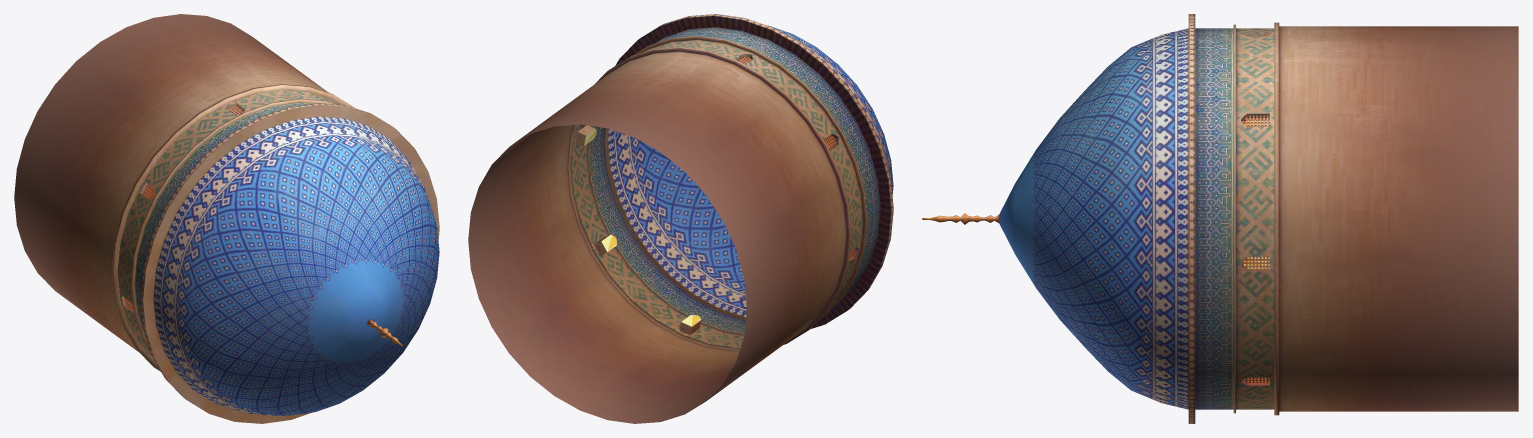
Rendered from dome.glb.
3 renders of one model, left to right at view 1: azimuth 30°, elevation 25°; view 2: azimuth 150°, elevation 25°; view 3: azimuth 270°, elevation 25°, orthographic. The views are drawn at different scales.
Visible parts, largest first — view 1: Dome_DomeMaterial_0; view 2: Dome_DomeMaterial_0; view 3: Dome_DomeMaterial_0.
Part boxes in pixels (box(x1,y1,x2,y2)): Dome_DomeMaterial_0: box(14, 14, 439, 423); Dome_DomeMaterial_0: box(468, 14, 893, 423); Dome_DomeMaterial_0: box(922, 14, 1518, 423).
Size of the model in its own units: 214 by 214 by 311.
1 material, 1 textured.
